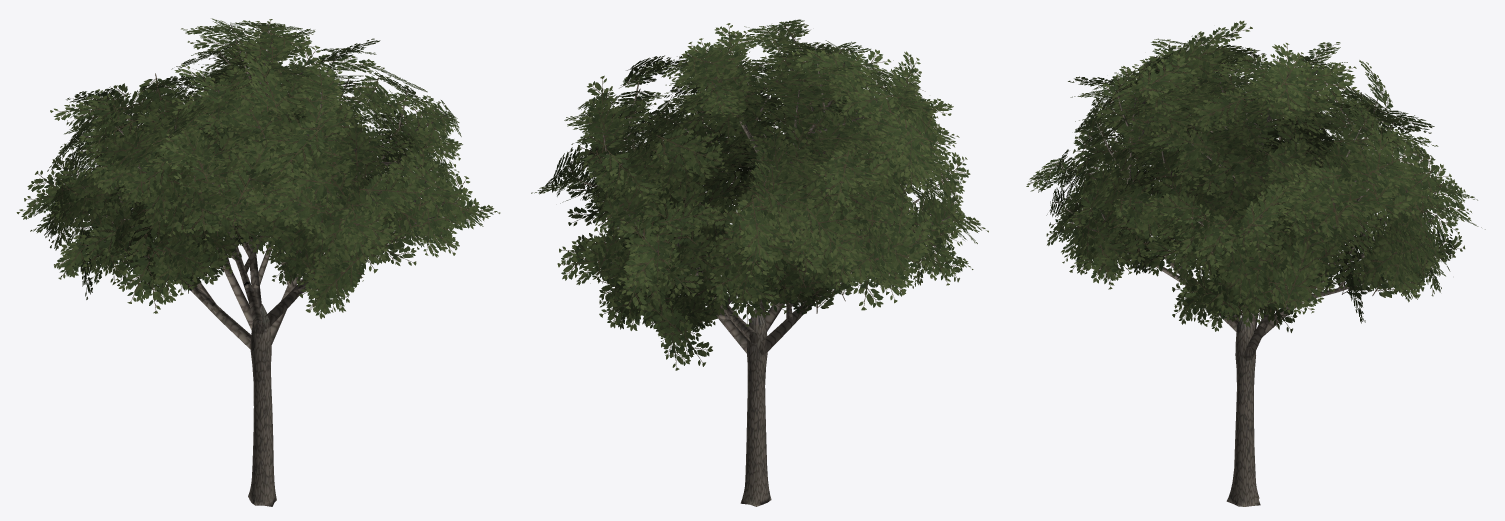
File: street_tree.glb
3 renders of one model, left to right at view 1: azimuth 30°, elevation 25°; view 2: azimuth 150°, elevation 25°; view 3: azimuth 270°, elevation 25°, orthographic. The views are drawn at different scales.
Visible parts, largest first — view 1: leaves, bark; view 2: leaves, bark; view 3: leaves, bark.
Boxes of the visible parts, x1,y1,x2,y2 form: leaves: [16, 18, 500, 318]; bark: [77, 22, 457, 506]; leaves: [531, 19, 988, 370]; bark: [565, 29, 949, 506]; leaves: [1026, 20, 1485, 332]; bark: [1055, 40, 1443, 506].
Size of the model in its own units: 5.69 by 6.13 by 5.72.
Materials: 2 (2 with a texture image).
